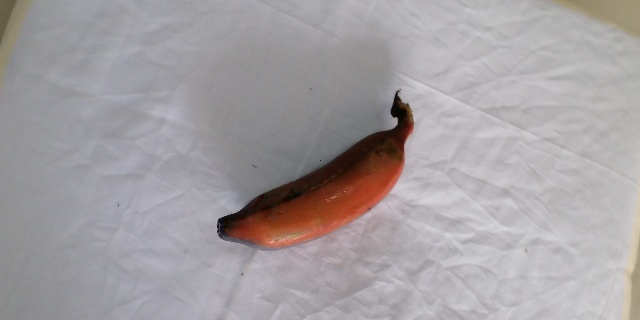banana_red: (216, 88, 414, 242)
